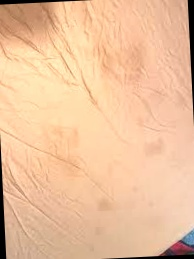oil: (101, 43, 142, 96), (56, 122, 86, 175), (146, 135, 174, 160), (96, 196, 116, 213), (95, 223, 103, 236)
